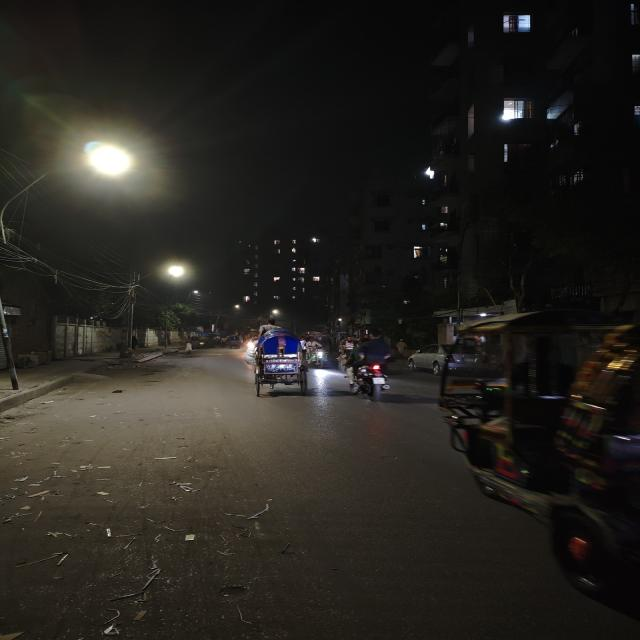motorcycle: (338, 330, 398, 404)
rickshaw: (430, 302, 639, 620), (244, 328, 315, 397), (307, 335, 334, 369)
